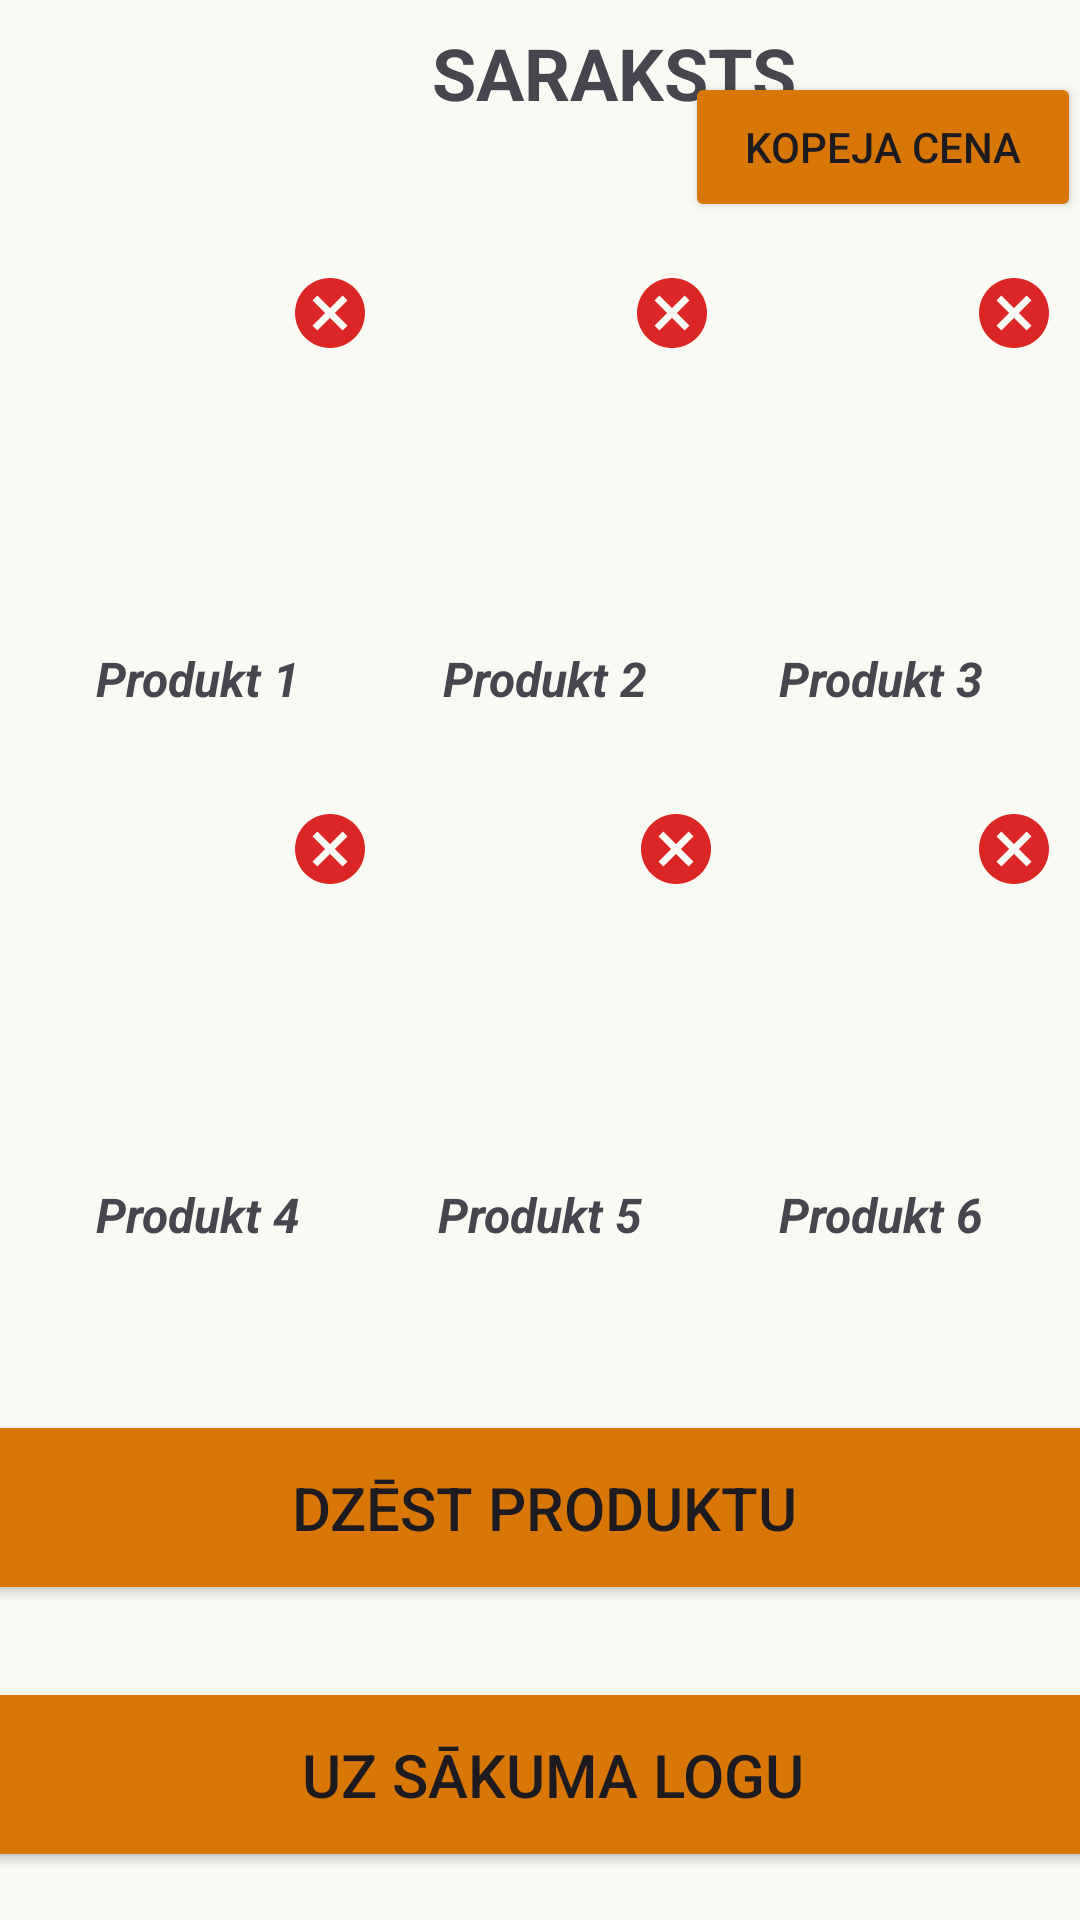

Point at icon controls on the screen. Image size 1080x1920, points as point (x, y).
cross: point (330, 313), point (672, 313), point (1014, 313), point (330, 849), point (676, 849), point (1014, 849)
